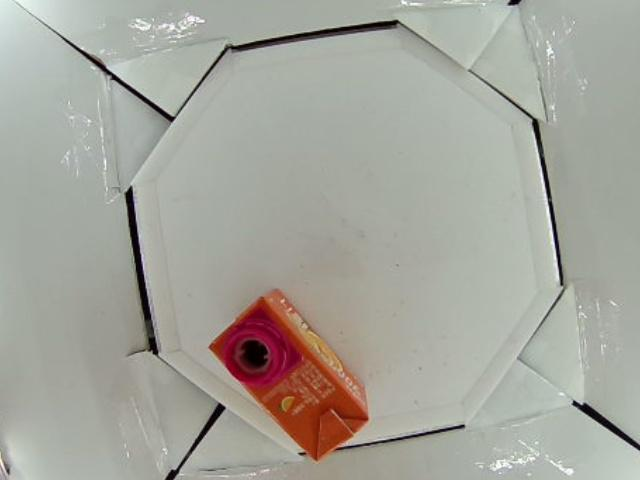Bottle: (209, 287, 370, 462)
